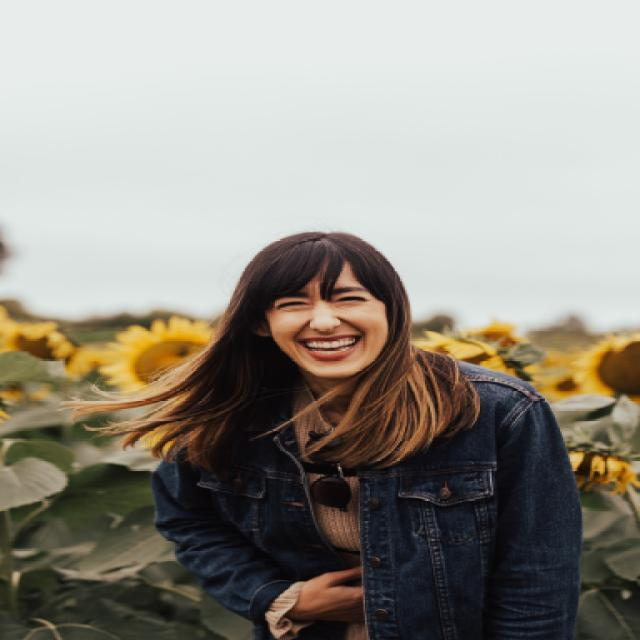sunflower: (96, 314, 214, 394), (410, 326, 519, 379), (564, 450, 638, 496), (588, 340, 638, 404), (0, 319, 73, 360), (63, 342, 107, 380), (468, 321, 518, 348), (541, 374, 582, 401), (0, 388, 28, 422)
